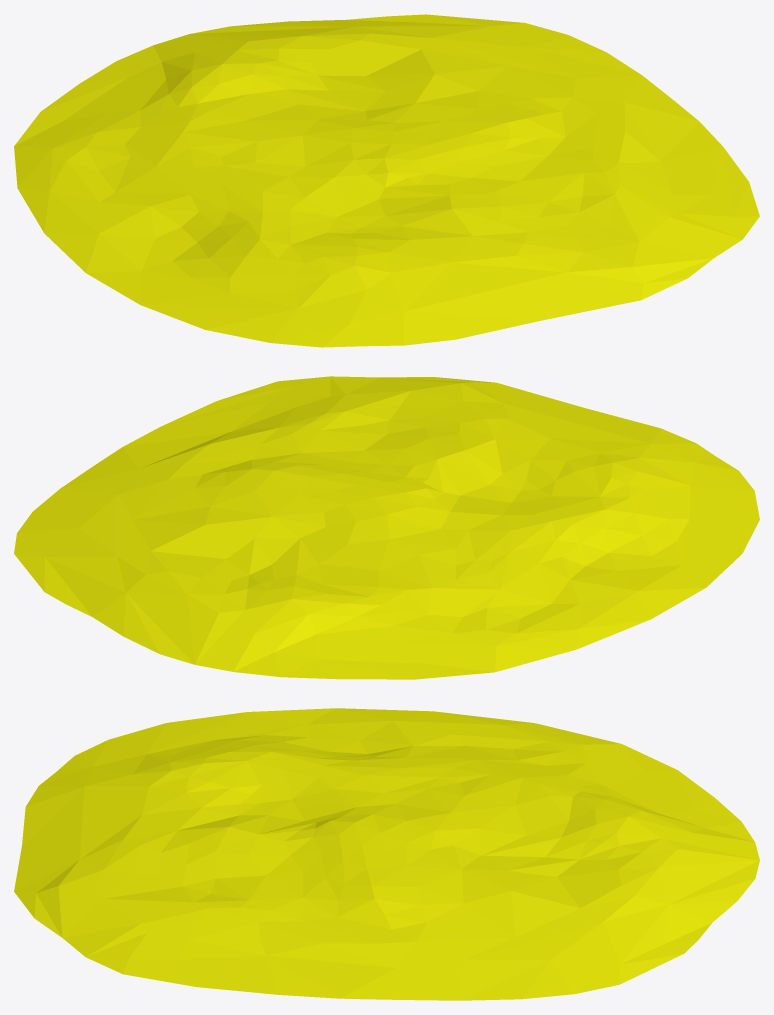
File: SM_Generic_Ground_02.glb
3 views of the same model, one above another, from view 1: azimuth 30°, elevation 25°; view 2: azimuth 150°, elevation 25°; view 3: azimuth 270°, elevation 25° (orthographic). The views are drawn at different scales.
Parts seen in each view (by area): view 1: SM_Generic_Ground_02; view 2: SM_Generic_Ground_02; view 3: SM_Generic_Ground_02.
Part boxes in pixels (x1,y1,x2,y2): SM_Generic_Ground_02: (14, 14, 759, 347); SM_Generic_Ground_02: (14, 376, 759, 679); SM_Generic_Ground_02: (14, 708, 759, 1000).
Bounding box in the file's own units: 10.42 × 0.5238 × 11.23.
Materials: 1 (1 with a texture image).
